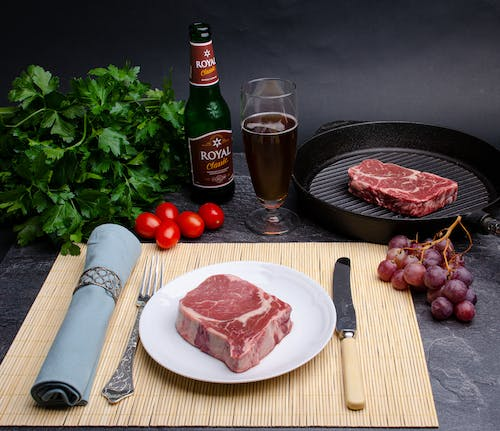alcohol: (182, 20, 235, 205), (239, 76, 299, 236)
knife: (332, 256, 366, 411)
